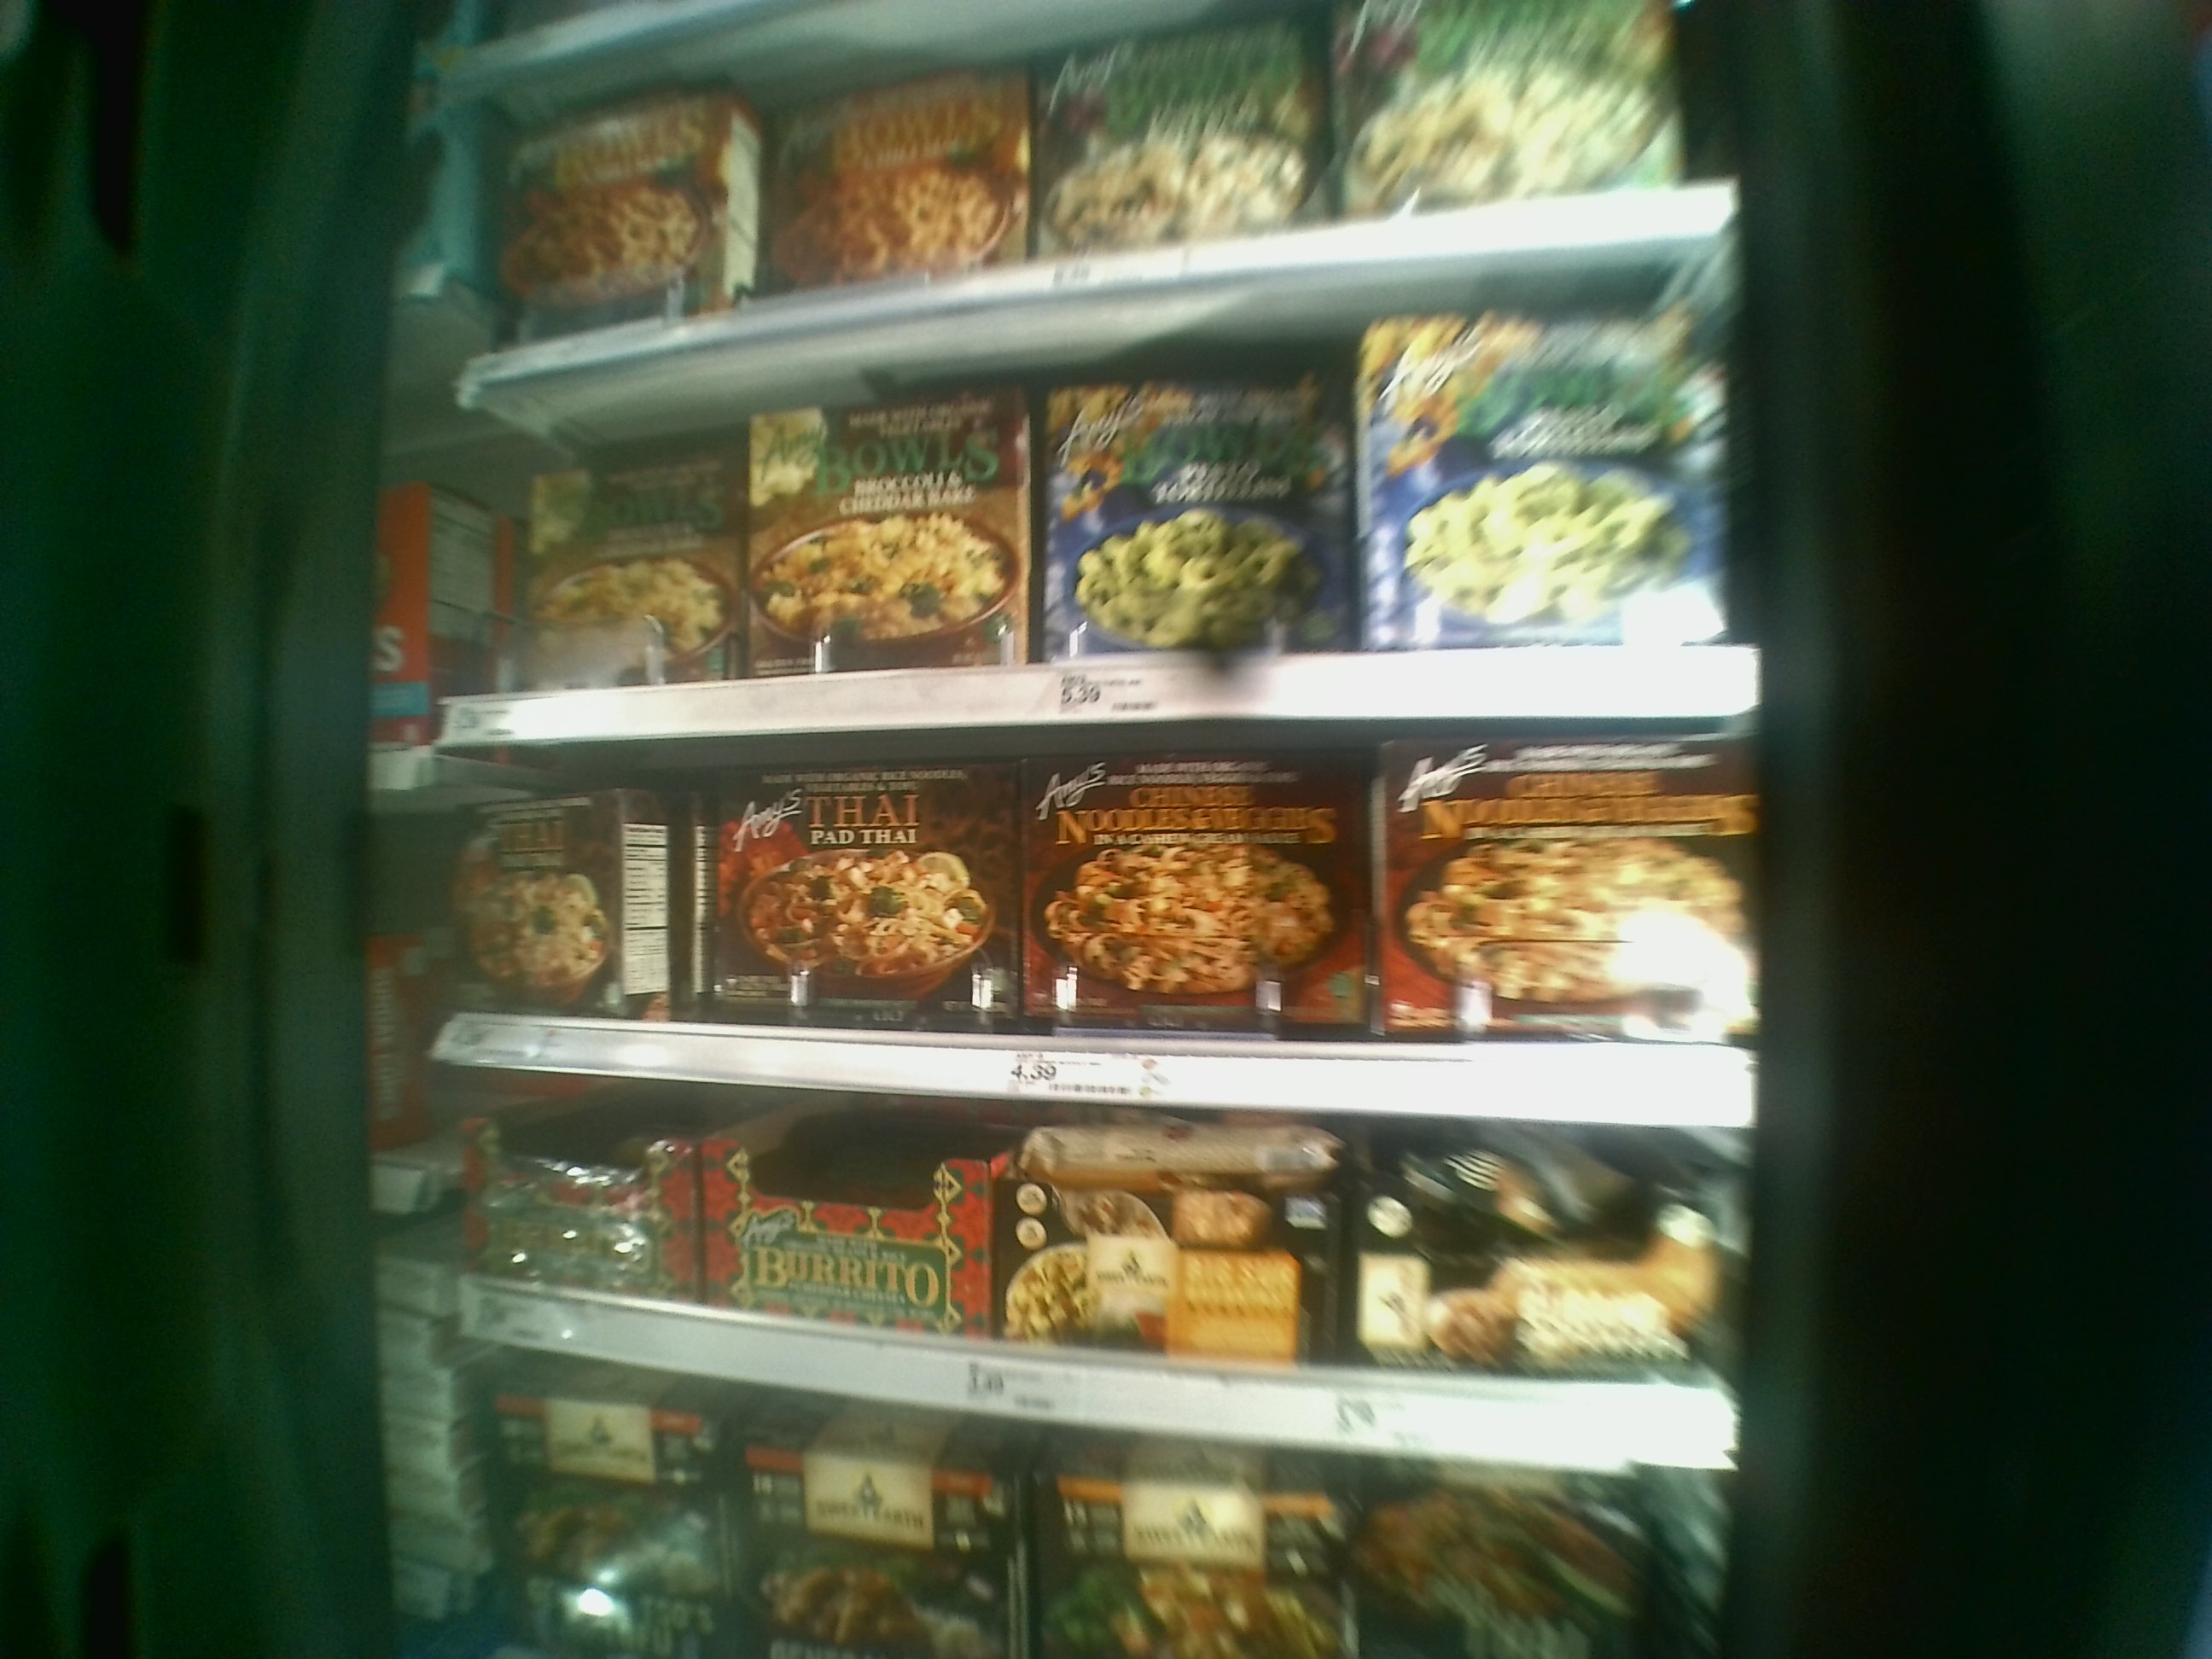frozen-food-shelf: (411, 762, 1770, 1133), (420, 408, 1759, 756), (406, 1140, 1743, 1476)
